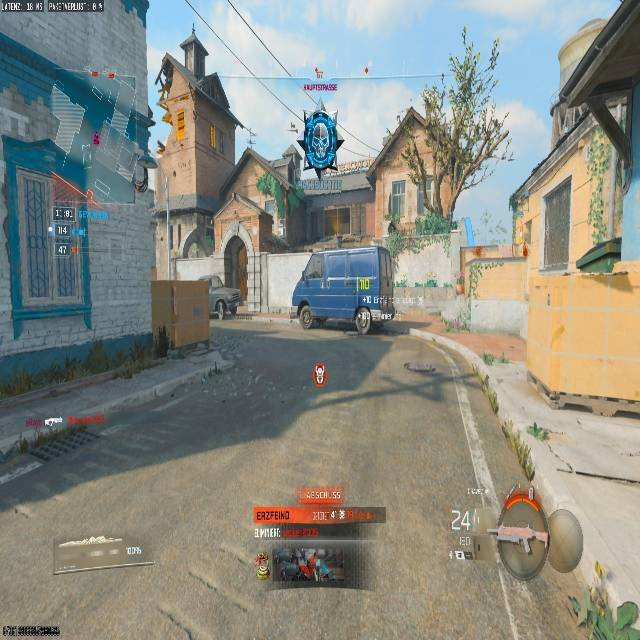player: (351, 294, 375, 336)
